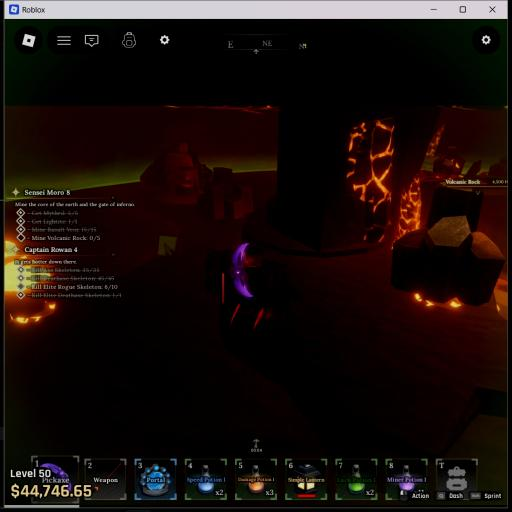player: (204, 244, 300, 327)
rock: (392, 183, 504, 305), (140, 141, 202, 195), (198, 168, 253, 220), (434, 146, 465, 175)
